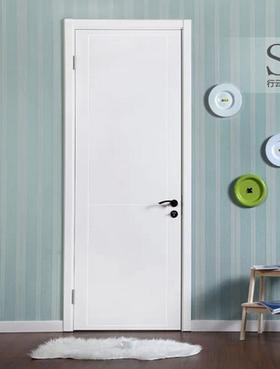door: (75, 29, 183, 331)
